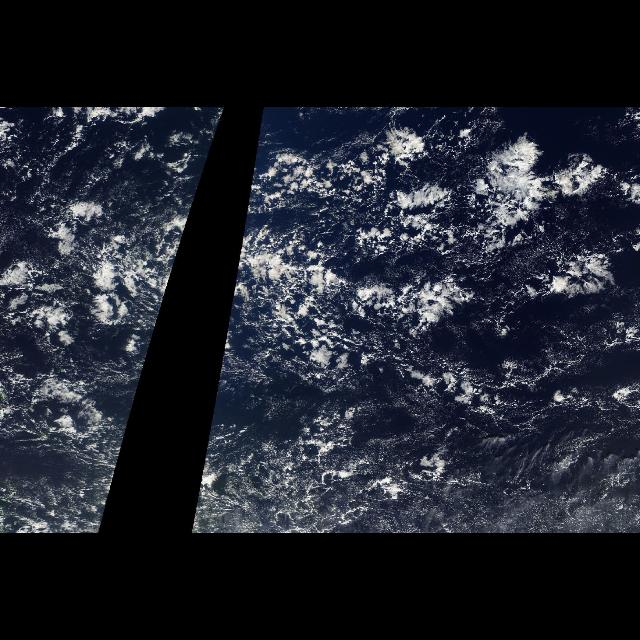Fish: (230, 166, 624, 358)
Gravel: (190, 409, 454, 533)
Sugar: (462, 416, 636, 530)
